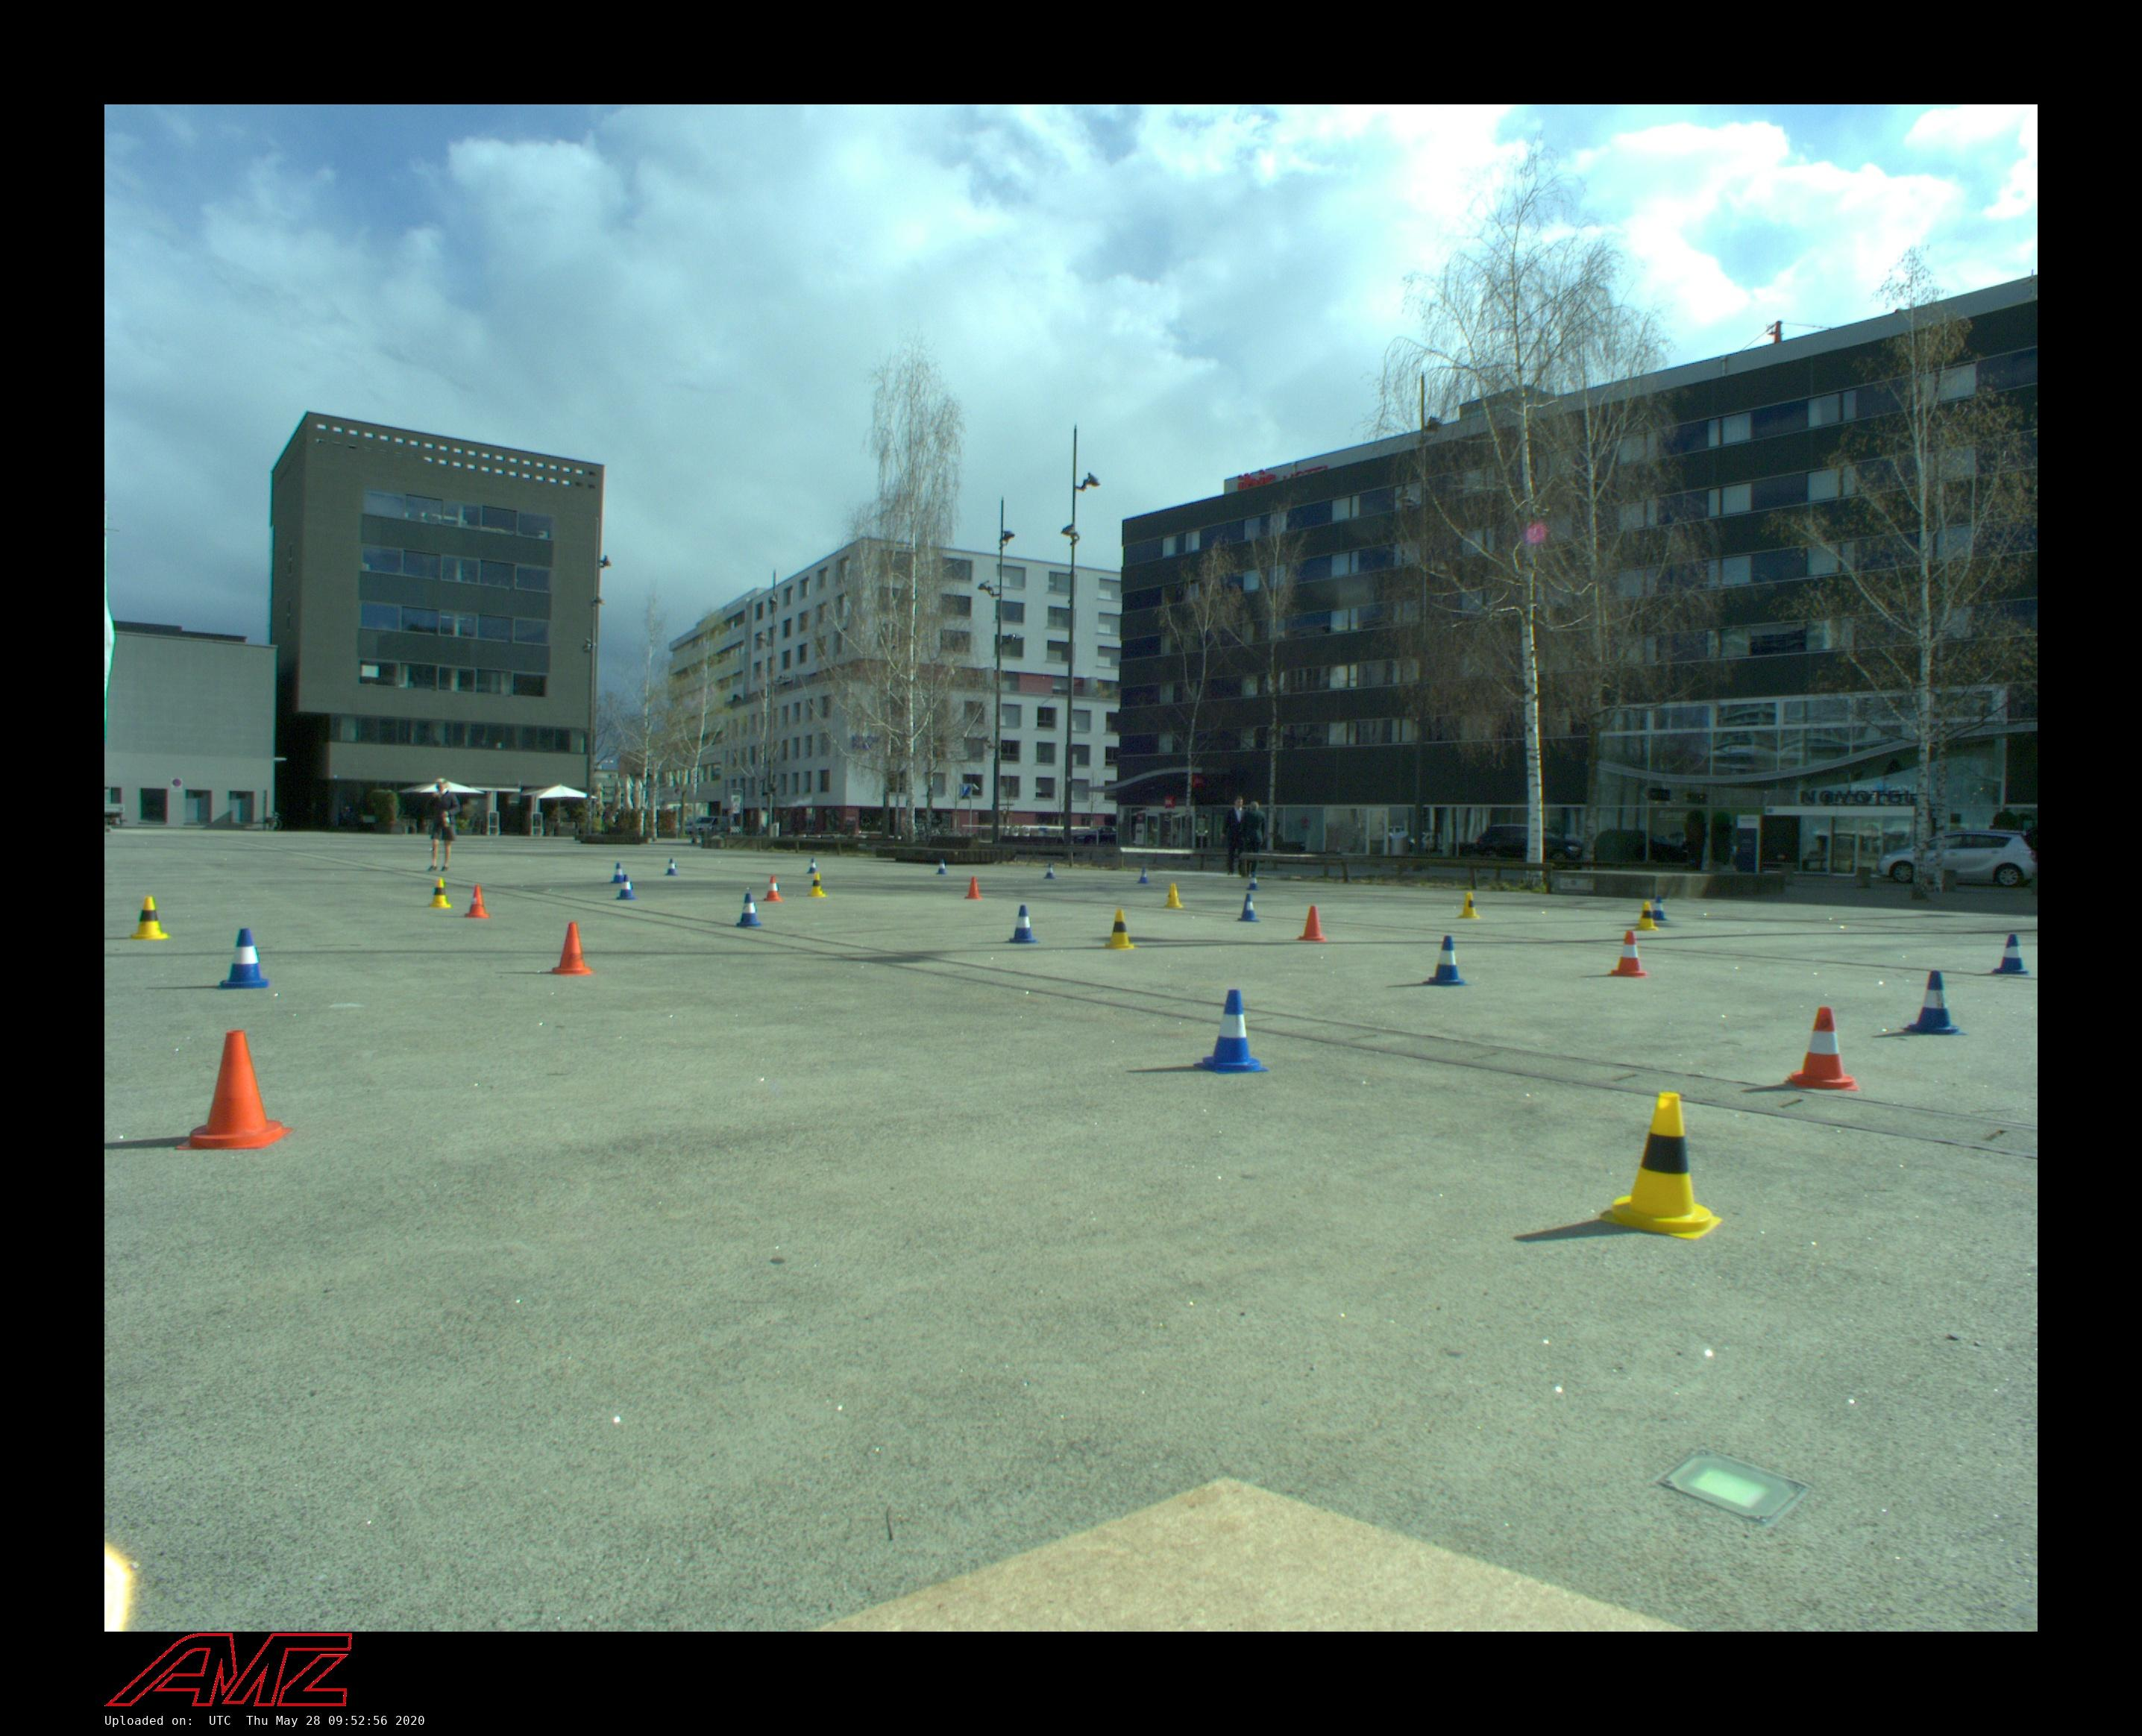blue_cone: (1194, 990, 1269, 1075), (1901, 969, 1967, 1035), (220, 928, 269, 990), (1423, 935, 1469, 987), (1991, 934, 2029, 974), (1008, 905, 1042, 944), (735, 893, 762, 926), (1237, 893, 1260, 921), (617, 873, 638, 900), (1653, 895, 1669, 919), (611, 863, 625, 884), (664, 859, 680, 875), (1246, 873, 1260, 891), (1044, 863, 1056, 879), (1137, 868, 1150, 884), (935, 859, 948, 873), (808, 859, 817, 873)
orange_cone: (175, 1029, 296, 1151), (1786, 1004, 1860, 1091), (551, 921, 597, 976), (1609, 930, 1649, 976), (1297, 905, 1327, 942), (464, 884, 491, 918), (764, 875, 783, 902), (966, 877, 983, 900)
yellow_cone: (1598, 1089, 1722, 1240), (131, 896, 172, 939), (1104, 909, 1137, 949), (427, 877, 452, 907), (1456, 891, 1481, 919), (1635, 902, 1660, 930), (1164, 882, 1184, 909), (808, 873, 827, 896)
